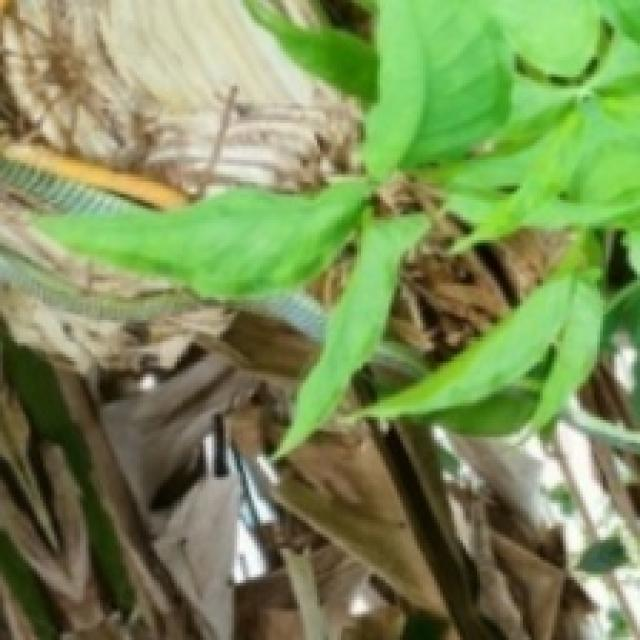paradise tree snake: (0, 249, 196, 321), (0, 158, 139, 213), (250, 292, 326, 342), (374, 341, 422, 379)
